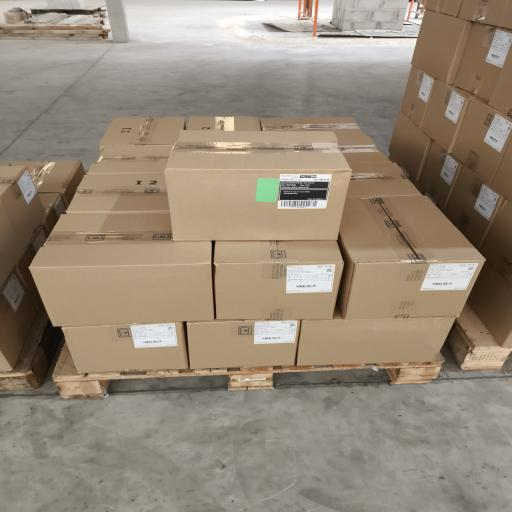pallet: (53, 344, 443, 398), (0, 308, 61, 390), (447, 305, 511, 369), (31, 6, 106, 17)
